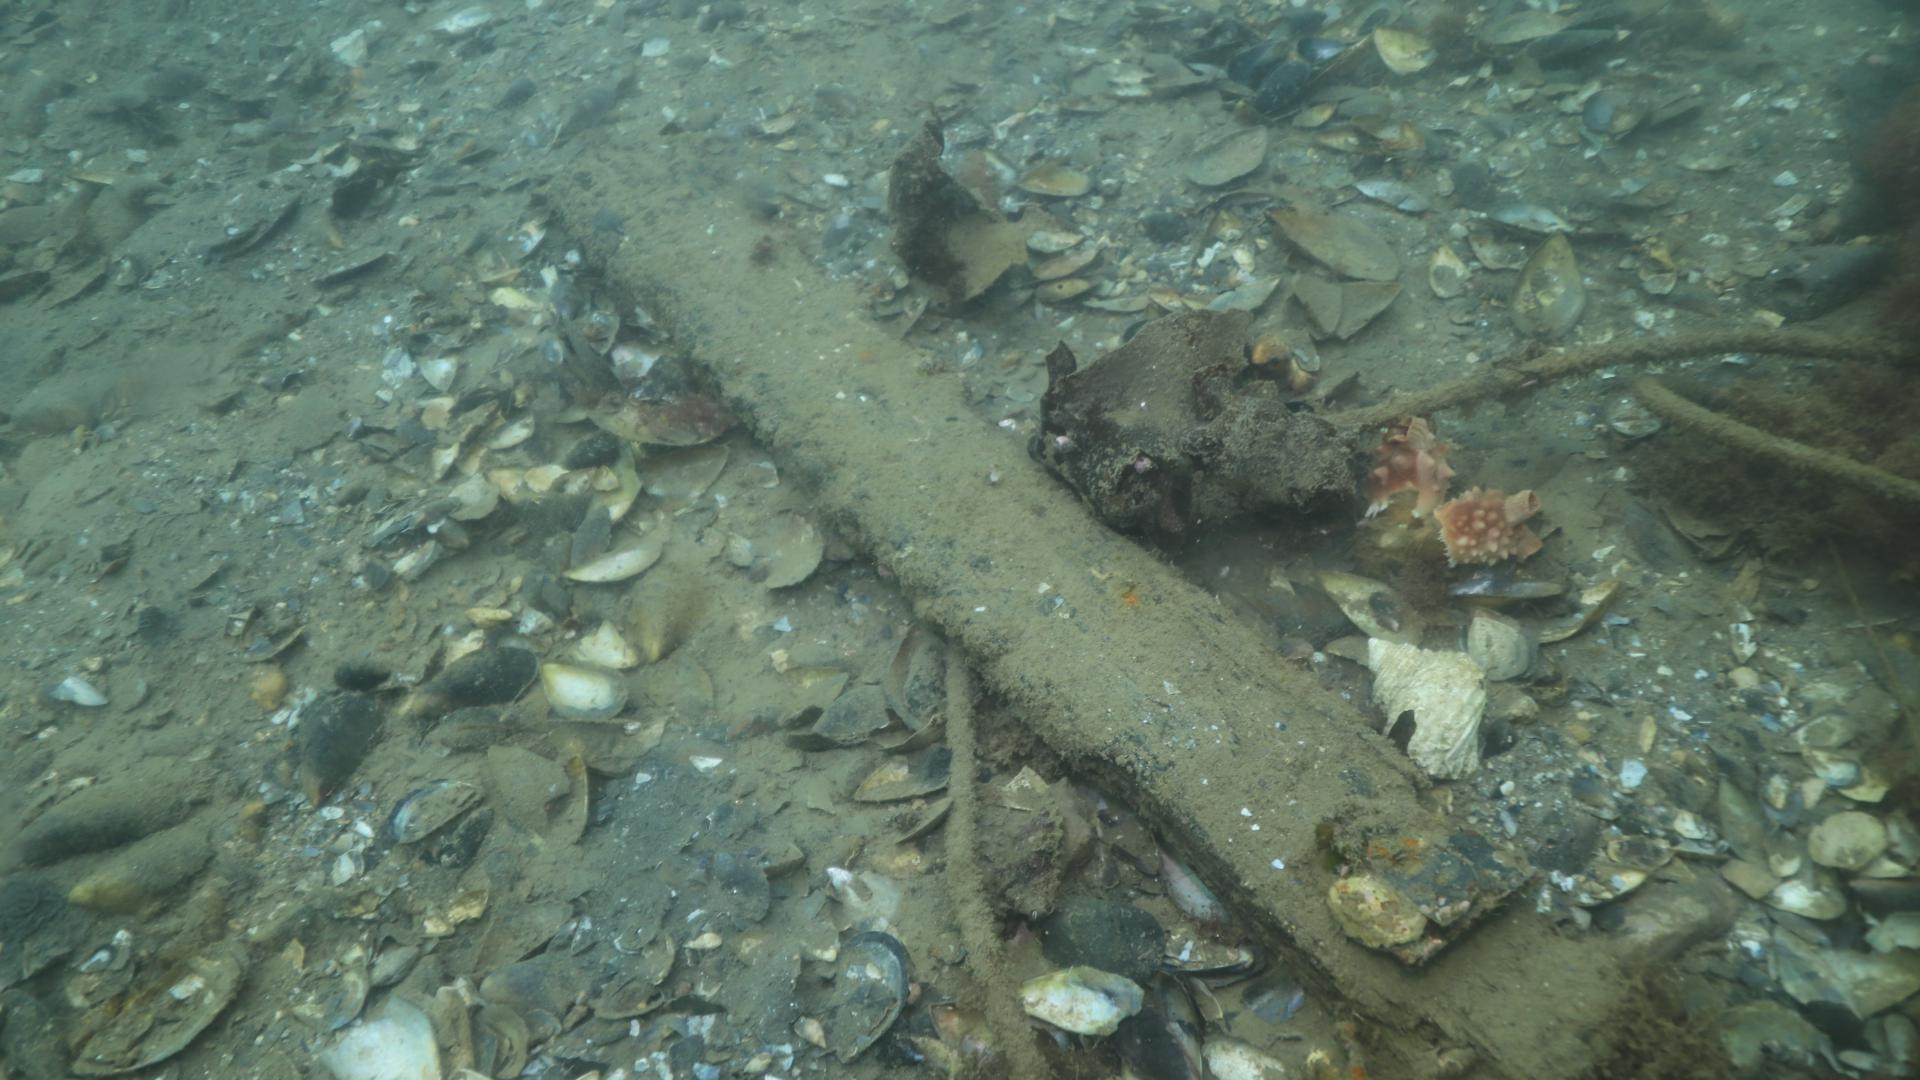bundle of ropes: (1324, 320, 1920, 518)
rope: (938, 636, 1064, 1080)
wood: (537, 108, 1640, 1080)
